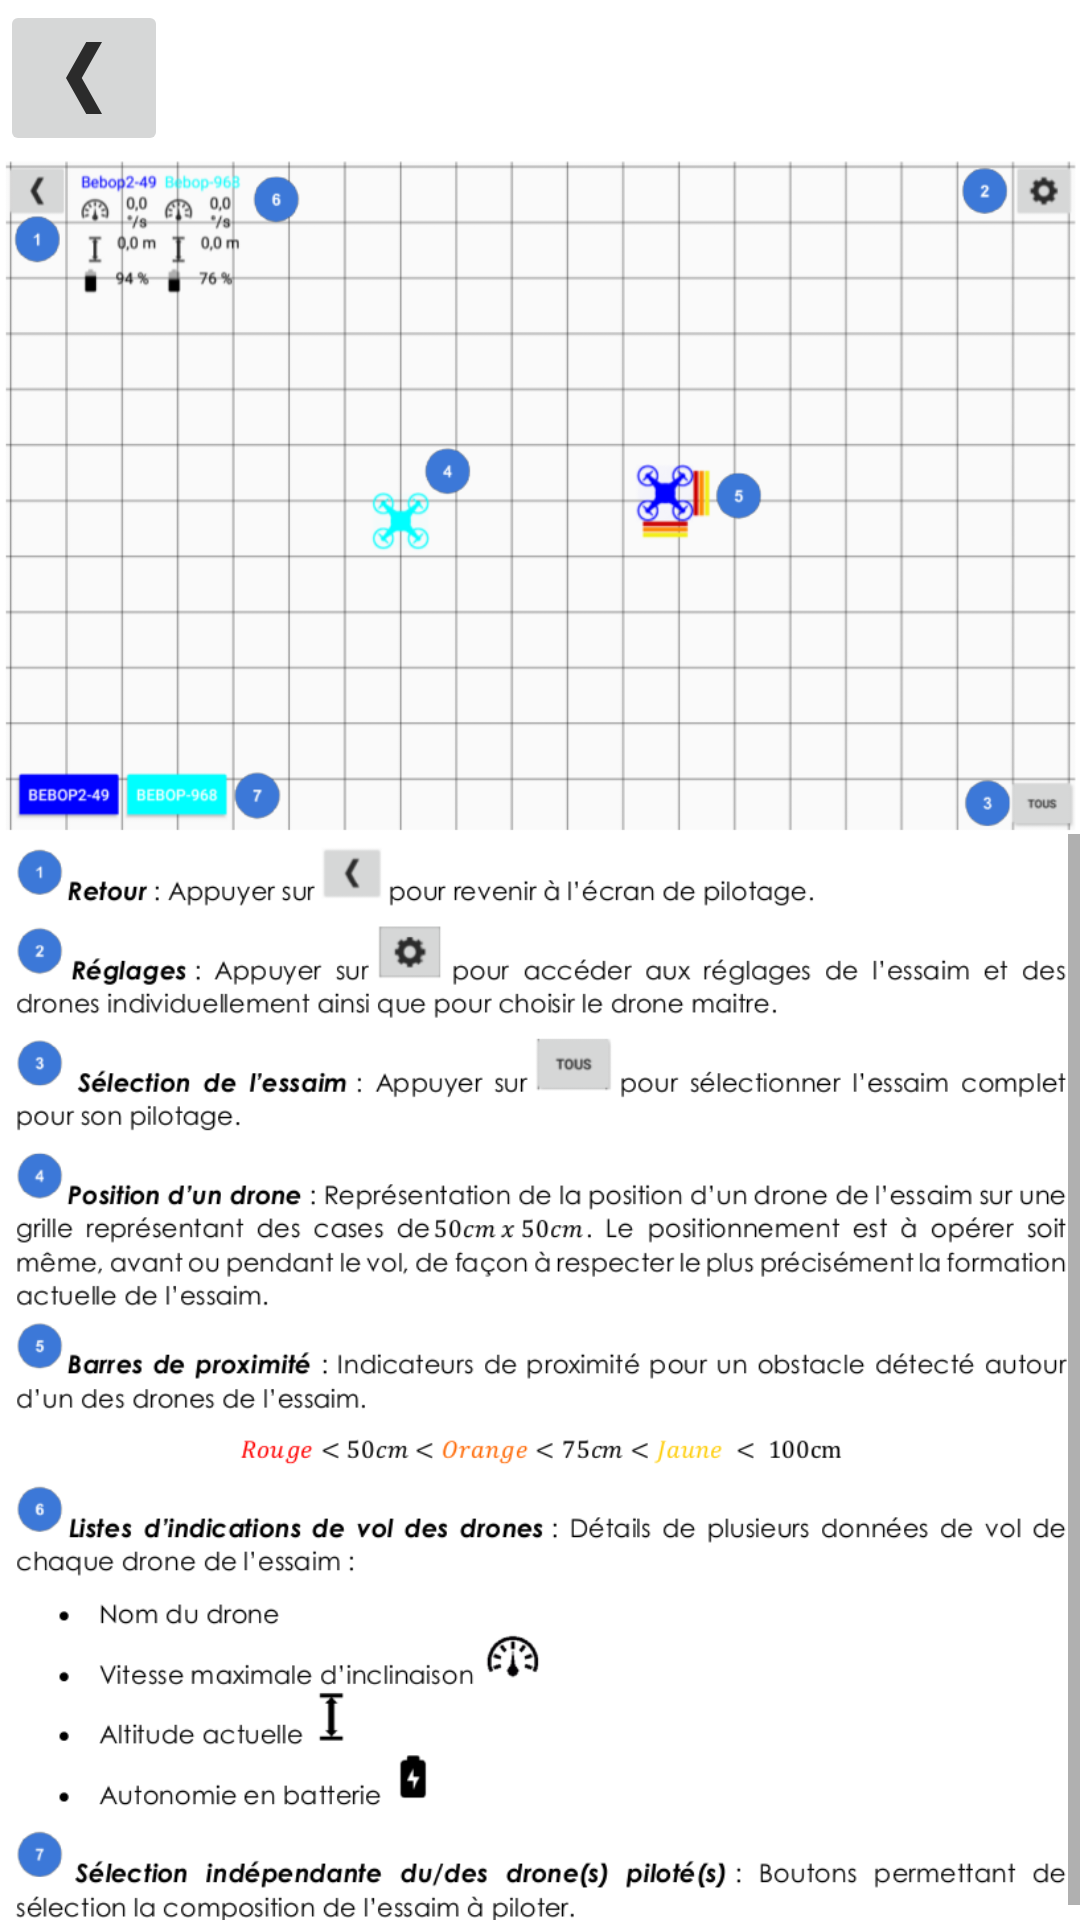

Where icons sit on this 1080px x 1920px app screen, as (left=x1, top=y1, right=x2, bottom=y2):
bouton retour: (left=12, top=18, right=156, bottom=138)
